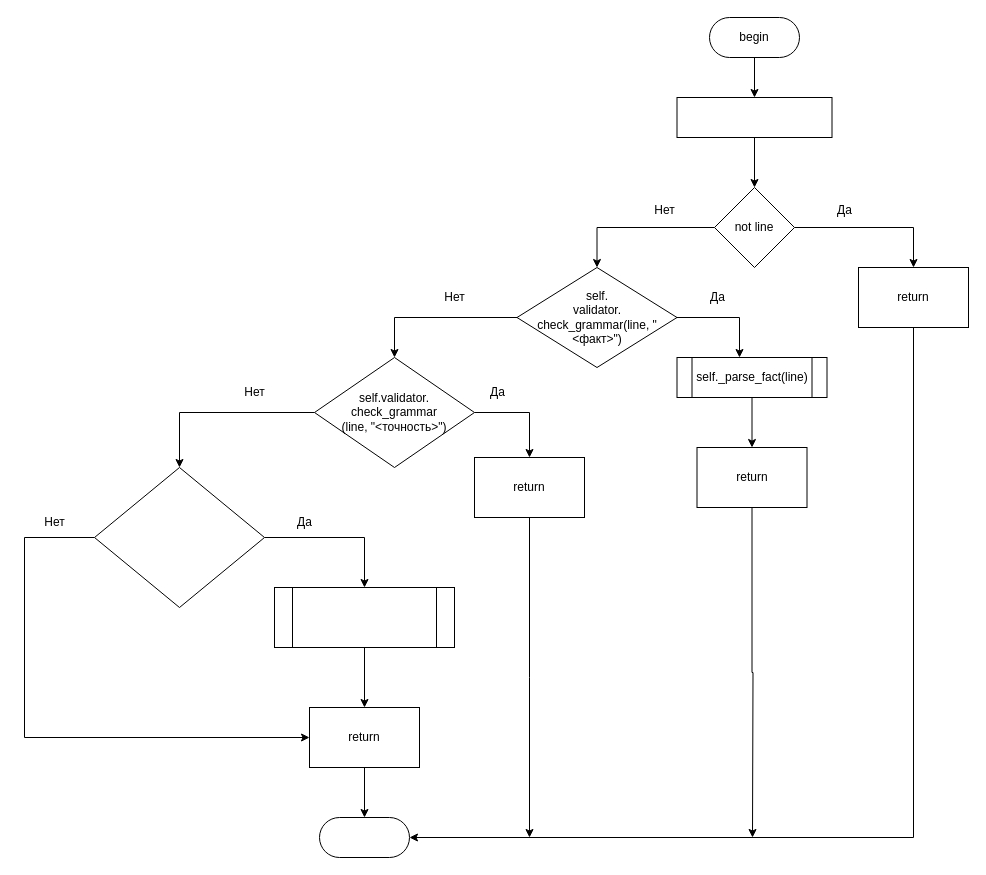
The diagram is 986 pixels wide and 875 high, and some of its shapes have lost their labels. Each missing label, with the box of its shape:
end: (318, 816, 410, 858)
line = line.strip(): (676, 96, 832, 138)
self. validator. check_grammar (line, <погрешность>"): (94, 466, 264, 608)
self._parse_eps(line): (274, 586, 454, 648)
